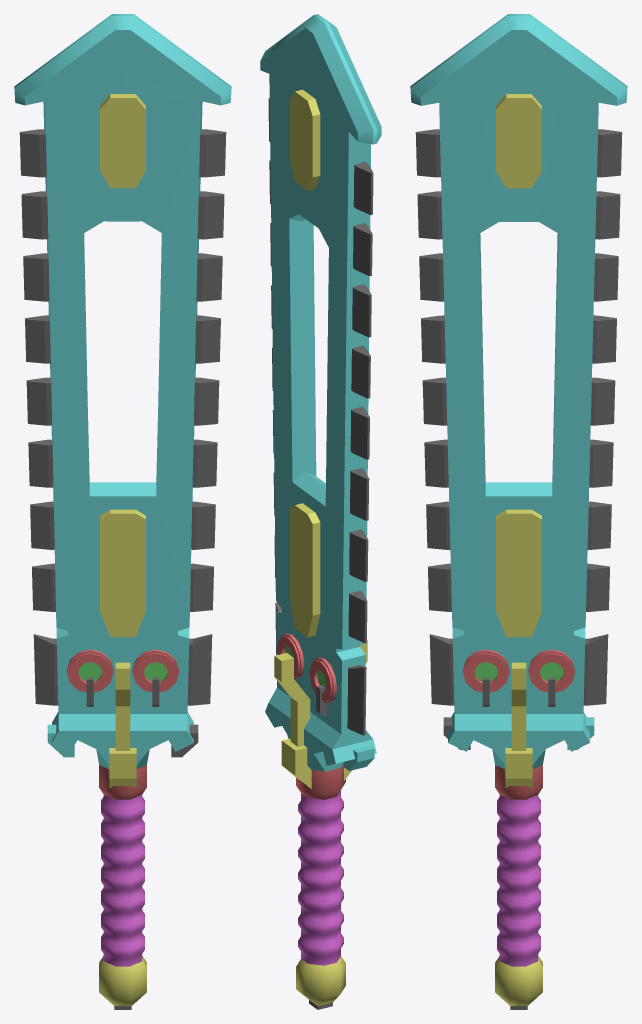
File: SwordPainter.fbx
3 renders of one model, left to right at view 1: azimuth 90°, elevation 25°; view 2: azimuth 210°, elevation 25°; view 3: azimuth 270°, elevation 25°, orthographic.
Parts seen in each view (by area): view 1: Melee_Sword; view 2: Melee_Sword; view 3: Melee_Sword.
Part boxes in pixels (x1,y1,x2,y2): Melee_Sword: (14, 14, 231, 1009); Melee_Sword: (260, 14, 381, 1009); Melee_Sword: (410, 14, 627, 1009).
Size of the model in its own units: 0.1174 by 1.28 by 0.2549.
